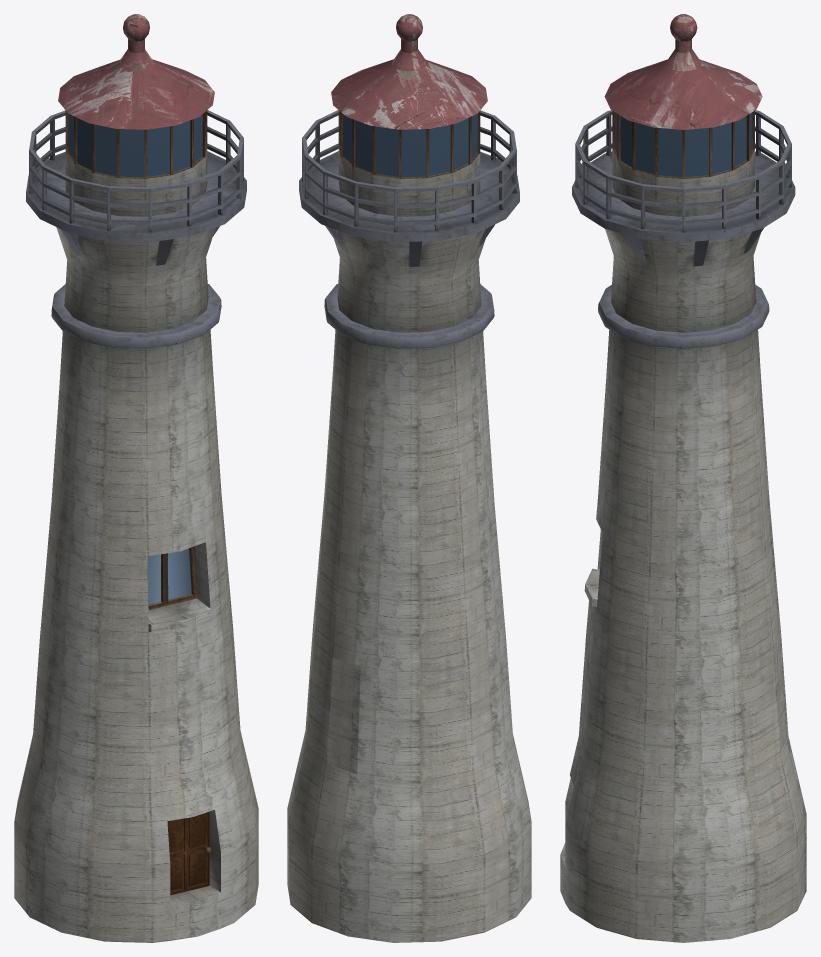
File: m_light.glb
The picture shows the model from 3 angles, left to right: view 1: azimuth 30°, elevation 25°; view 2: azimuth 150°, elevation 25°; view 3: azimuth 270°, elevation 25°; orthographic projection.
Parts seen in each view (by area): view 1: body|Material_330, body|Material_327, body|Material_326, body|Material_329, body|Material_324, body|Material_328; view 2: body|Material_330, body|Material_327, body|Material_326, body|Material_329, body|Material_328; view 3: body|Material_330, body|Material_327, body|Material_326, body|Material_329, body|Material_328.
Part boxes in pixels (<box>): body|Material_330: <box>14,146,258,942</box>; body|Material_327: <box>26,110,246,348</box>; body|Material_326: <box>58,14,214,129</box>; body|Material_329: <box>68,113,202,604</box>; body|Material_324: <box>167,811,209,895</box>; body|Material_328: <box>65,110,207,609</box>; body|Material_330: <box>287,146,531,942</box>; body|Material_327: <box>299,110,519,348</box>; body|Material_326: <box>331,14,487,129</box>; body|Material_329: <box>343,113,477,177</box>; body|Material_328: <box>338,110,480,178</box>; body|Material_330: <box>560,150,806,942</box>; body|Material_327: <box>572,110,795,348</box>; body|Material_326: <box>604,14,762,129</box>; body|Material_329: <box>615,112,752,177</box>; body|Material_328: <box>612,110,754,178</box>.
Bounding box in the file's own units: 10.88 × 42.66 × 10.9.
7 materials, 7 textured.
